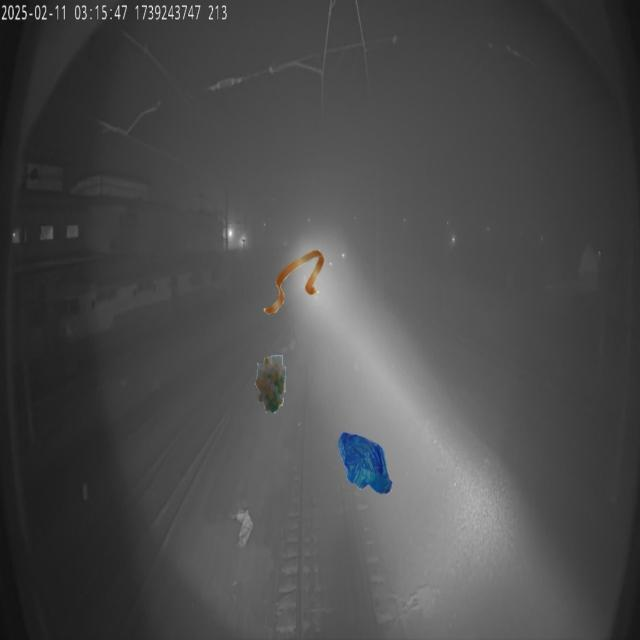balloon: (255, 349, 286, 414)
floating object: (264, 250, 325, 314)
plastic bag: (338, 430, 392, 494)
